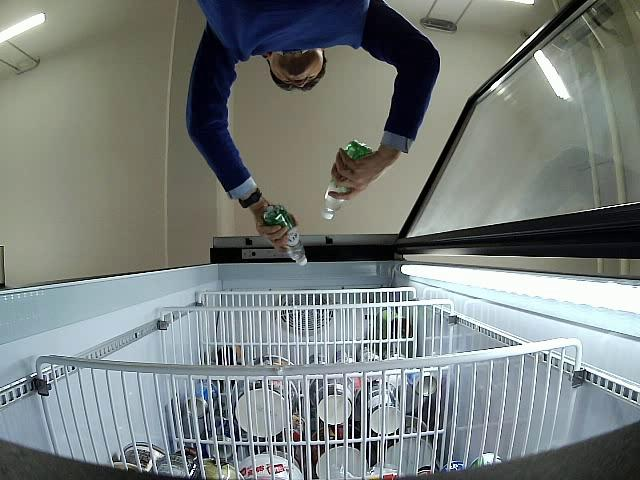00_hand: (329, 147, 399, 200), (251, 203, 297, 252)
18_trevi: (321, 139, 372, 220), (263, 203, 308, 266)
